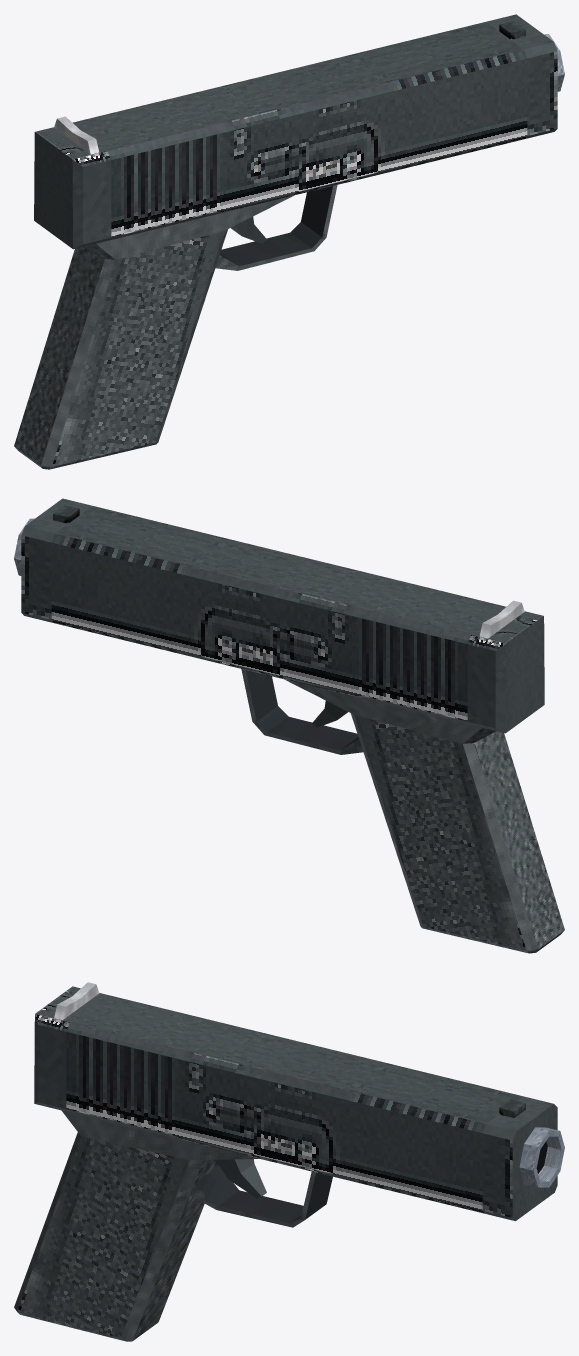
The model's file is default_gun.glb.
3 views of the same model, one above another, from view 1: azimuth 30°, elevation 25°; view 2: azimuth 150°, elevation 25°; view 3: azimuth 330°, elevation 25° (orthographic).
Visible parts, largest first — view 1: Top, Handle; view 2: Top, Handle; view 3: Top, Handle, Barrel.
Part boxes in pixels (box(x1,y1,x2,y2)): Top: box(34, 14, 557, 249); Handle: box(14, 185, 337, 469); Top: box(21, 498, 544, 733); Handle: box(241, 669, 564, 953); Top: box(34, 982, 557, 1221); Handle: box(14, 1110, 332, 1341); Barrel: box(519, 1127, 564, 1187).
Bounding box in the file's own units: 2.49 × 1.46 × 0.3713.
Materials: 3 (3 with a texture image).
